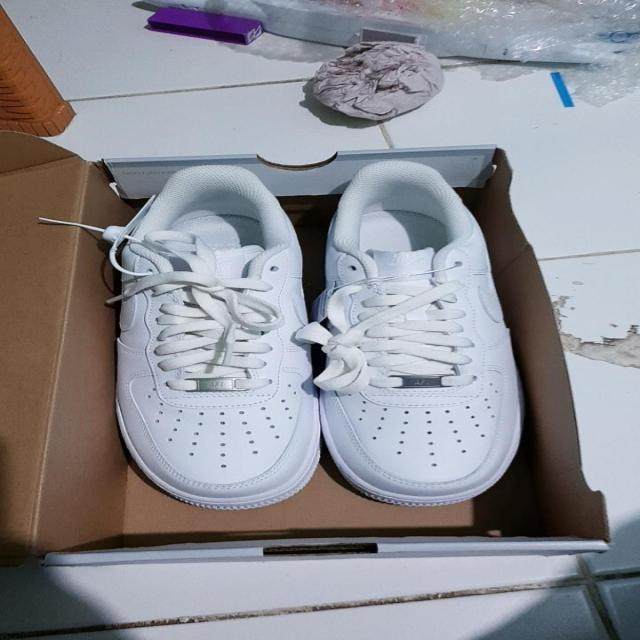nike original air force: (95, 162, 322, 512), (322, 163, 534, 508)
